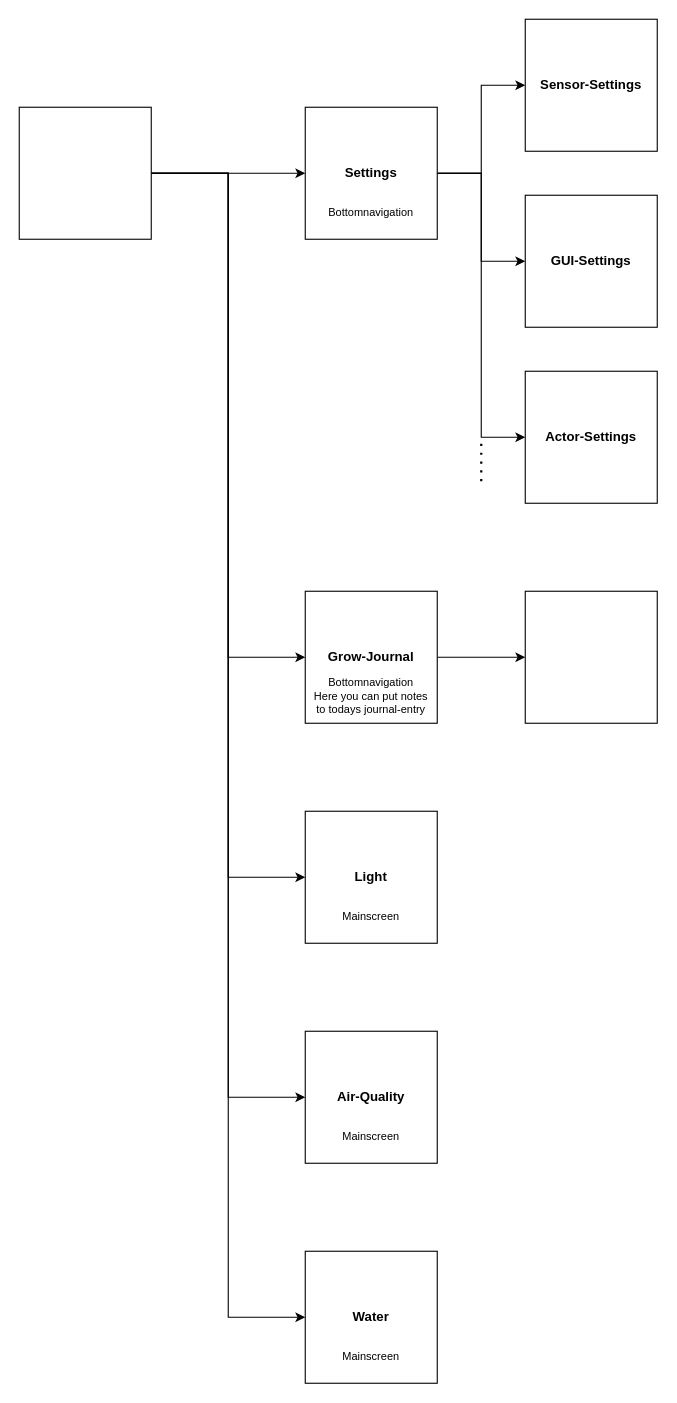
Some shapes in this 677 by 1403 pixel diagram are drawn without their labels. Each missing label, with the centre of its shape:
Home: pixel 84 172
Journal-Calendar: pixel 590 656
